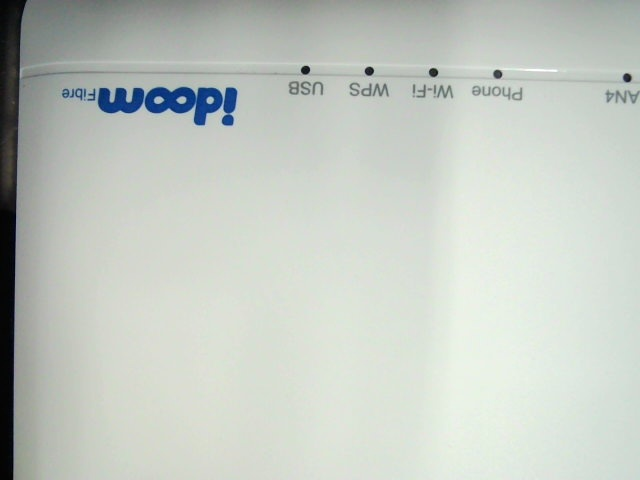BB_idoom: (54, 75, 242, 136)
